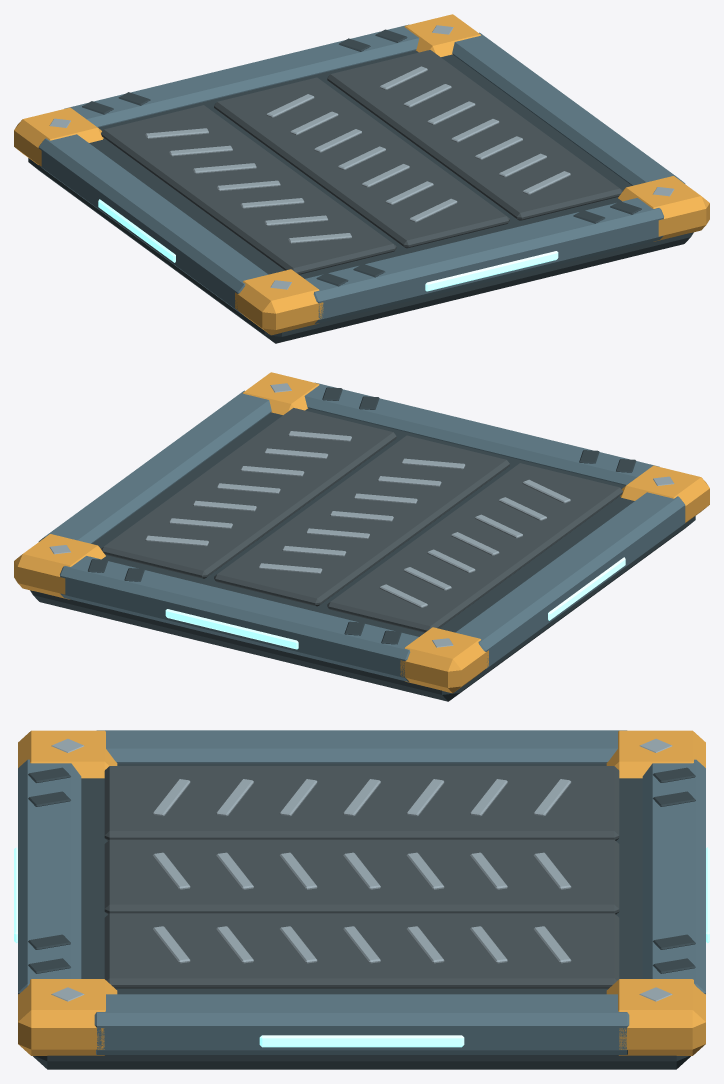
Rendered from elevador-modular.glb.
3 views of the same model, one above another, from view 1: azimuth 30°, elevation 25°; view 2: azimuth 150°, elevation 25°; view 3: azimuth 270°, elevation 25° (orthographic). The views are drawn at different scales.
Parts seen in each view (by area): view 1: Plataforma modular; view 2: Plataforma modular; view 3: Plataforma modular.
Boxes of the visible parts, box(x1,y1,x2,y2) form: Plataforma modular: box(14, 14, 709, 343); Plataforma modular: box(14, 372, 709, 701); Plataforma modular: box(14, 730, 709, 1069).
Bounding box in the file's own units: 0.987 × 0.125 × 0.987.
